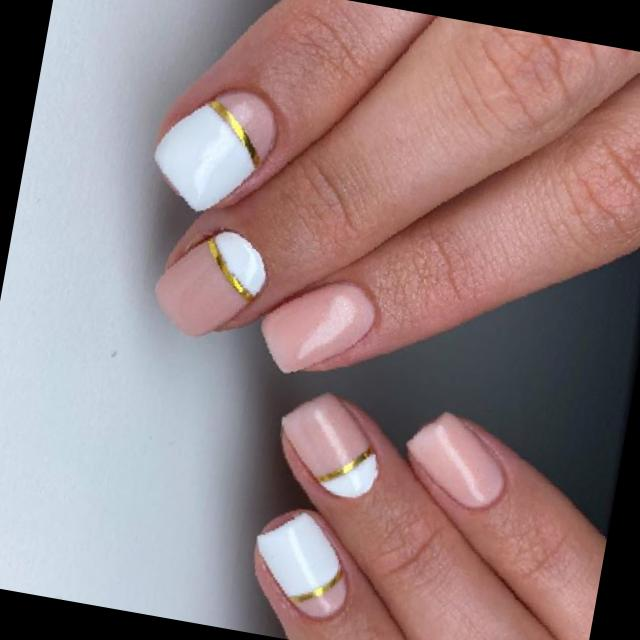Nail: (154, 92, 274, 209), (155, 231, 265, 334), (261, 283, 374, 370), (281, 398, 378, 498), (256, 512, 346, 618), (407, 414, 500, 507)
